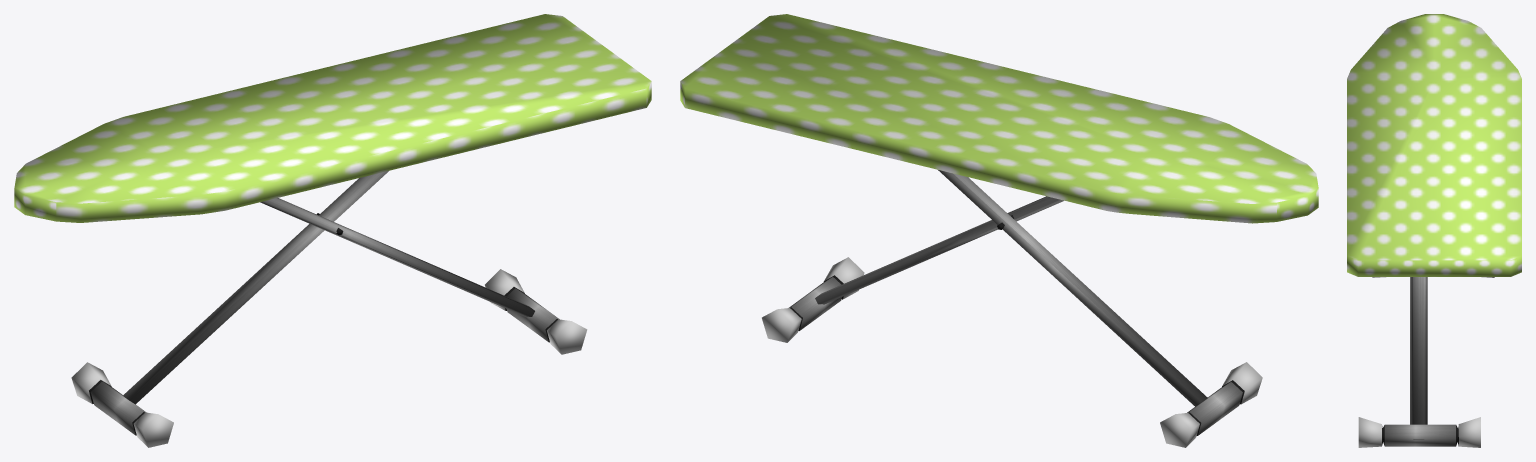
Rendered from Ironing_Board_A.FBX.
The picture shows the model from 3 angles, left to right: view 1: azimuth 30°, elevation 25°; view 2: azimuth 150°, elevation 25°; view 3: azimuth 270°, elevation 25°; orthographic projection. The views are drawn at different scales.
Parts seen in each view (by area): view 1: Ironing_Board; view 2: Ironing_Board; view 3: Ironing_Board.
Part boxes in pixels (<box>): Ironing_Board: <box>14,14,651,447</box>; Ironing_Board: <box>680,14,1318,447</box>; Ironing_Board: <box>1347,14,1521,447</box>.
Size of the model in its own units: 317 by 130 by 95.
